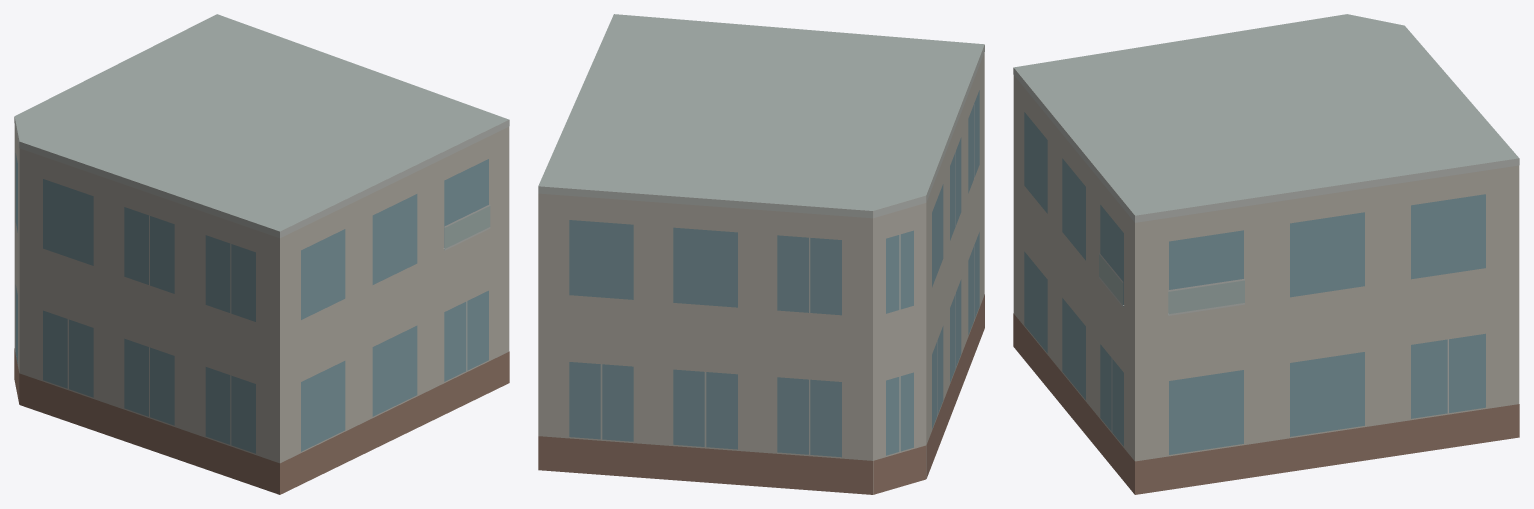
File: survey-upis-32838223.glb
3 renders of one model, left to right at view 1: azimuth 30°, elevation 25°; view 2: azimuth 150°, elevation 25°; view 3: azimuth 270°, elevation 25°, orthographic. The views are drawn at different scales.
Parts seen in each view (by area): view 1: survey-upis-32838223.tmp; view 2: survey-upis-32838223.tmp; view 3: survey-upis-32838223.tmp.
Boxes of the visible parts, <box> form: survey-upis-32838223.tmp: <box>14,14,509,494</box>; survey-upis-32838223.tmp: <box>538,14,984,494</box>; survey-upis-32838223.tmp: <box>1013,14,1519,494</box>.
Bounding box in the file's own units: 14.73 × 9.5 × 15.62.
